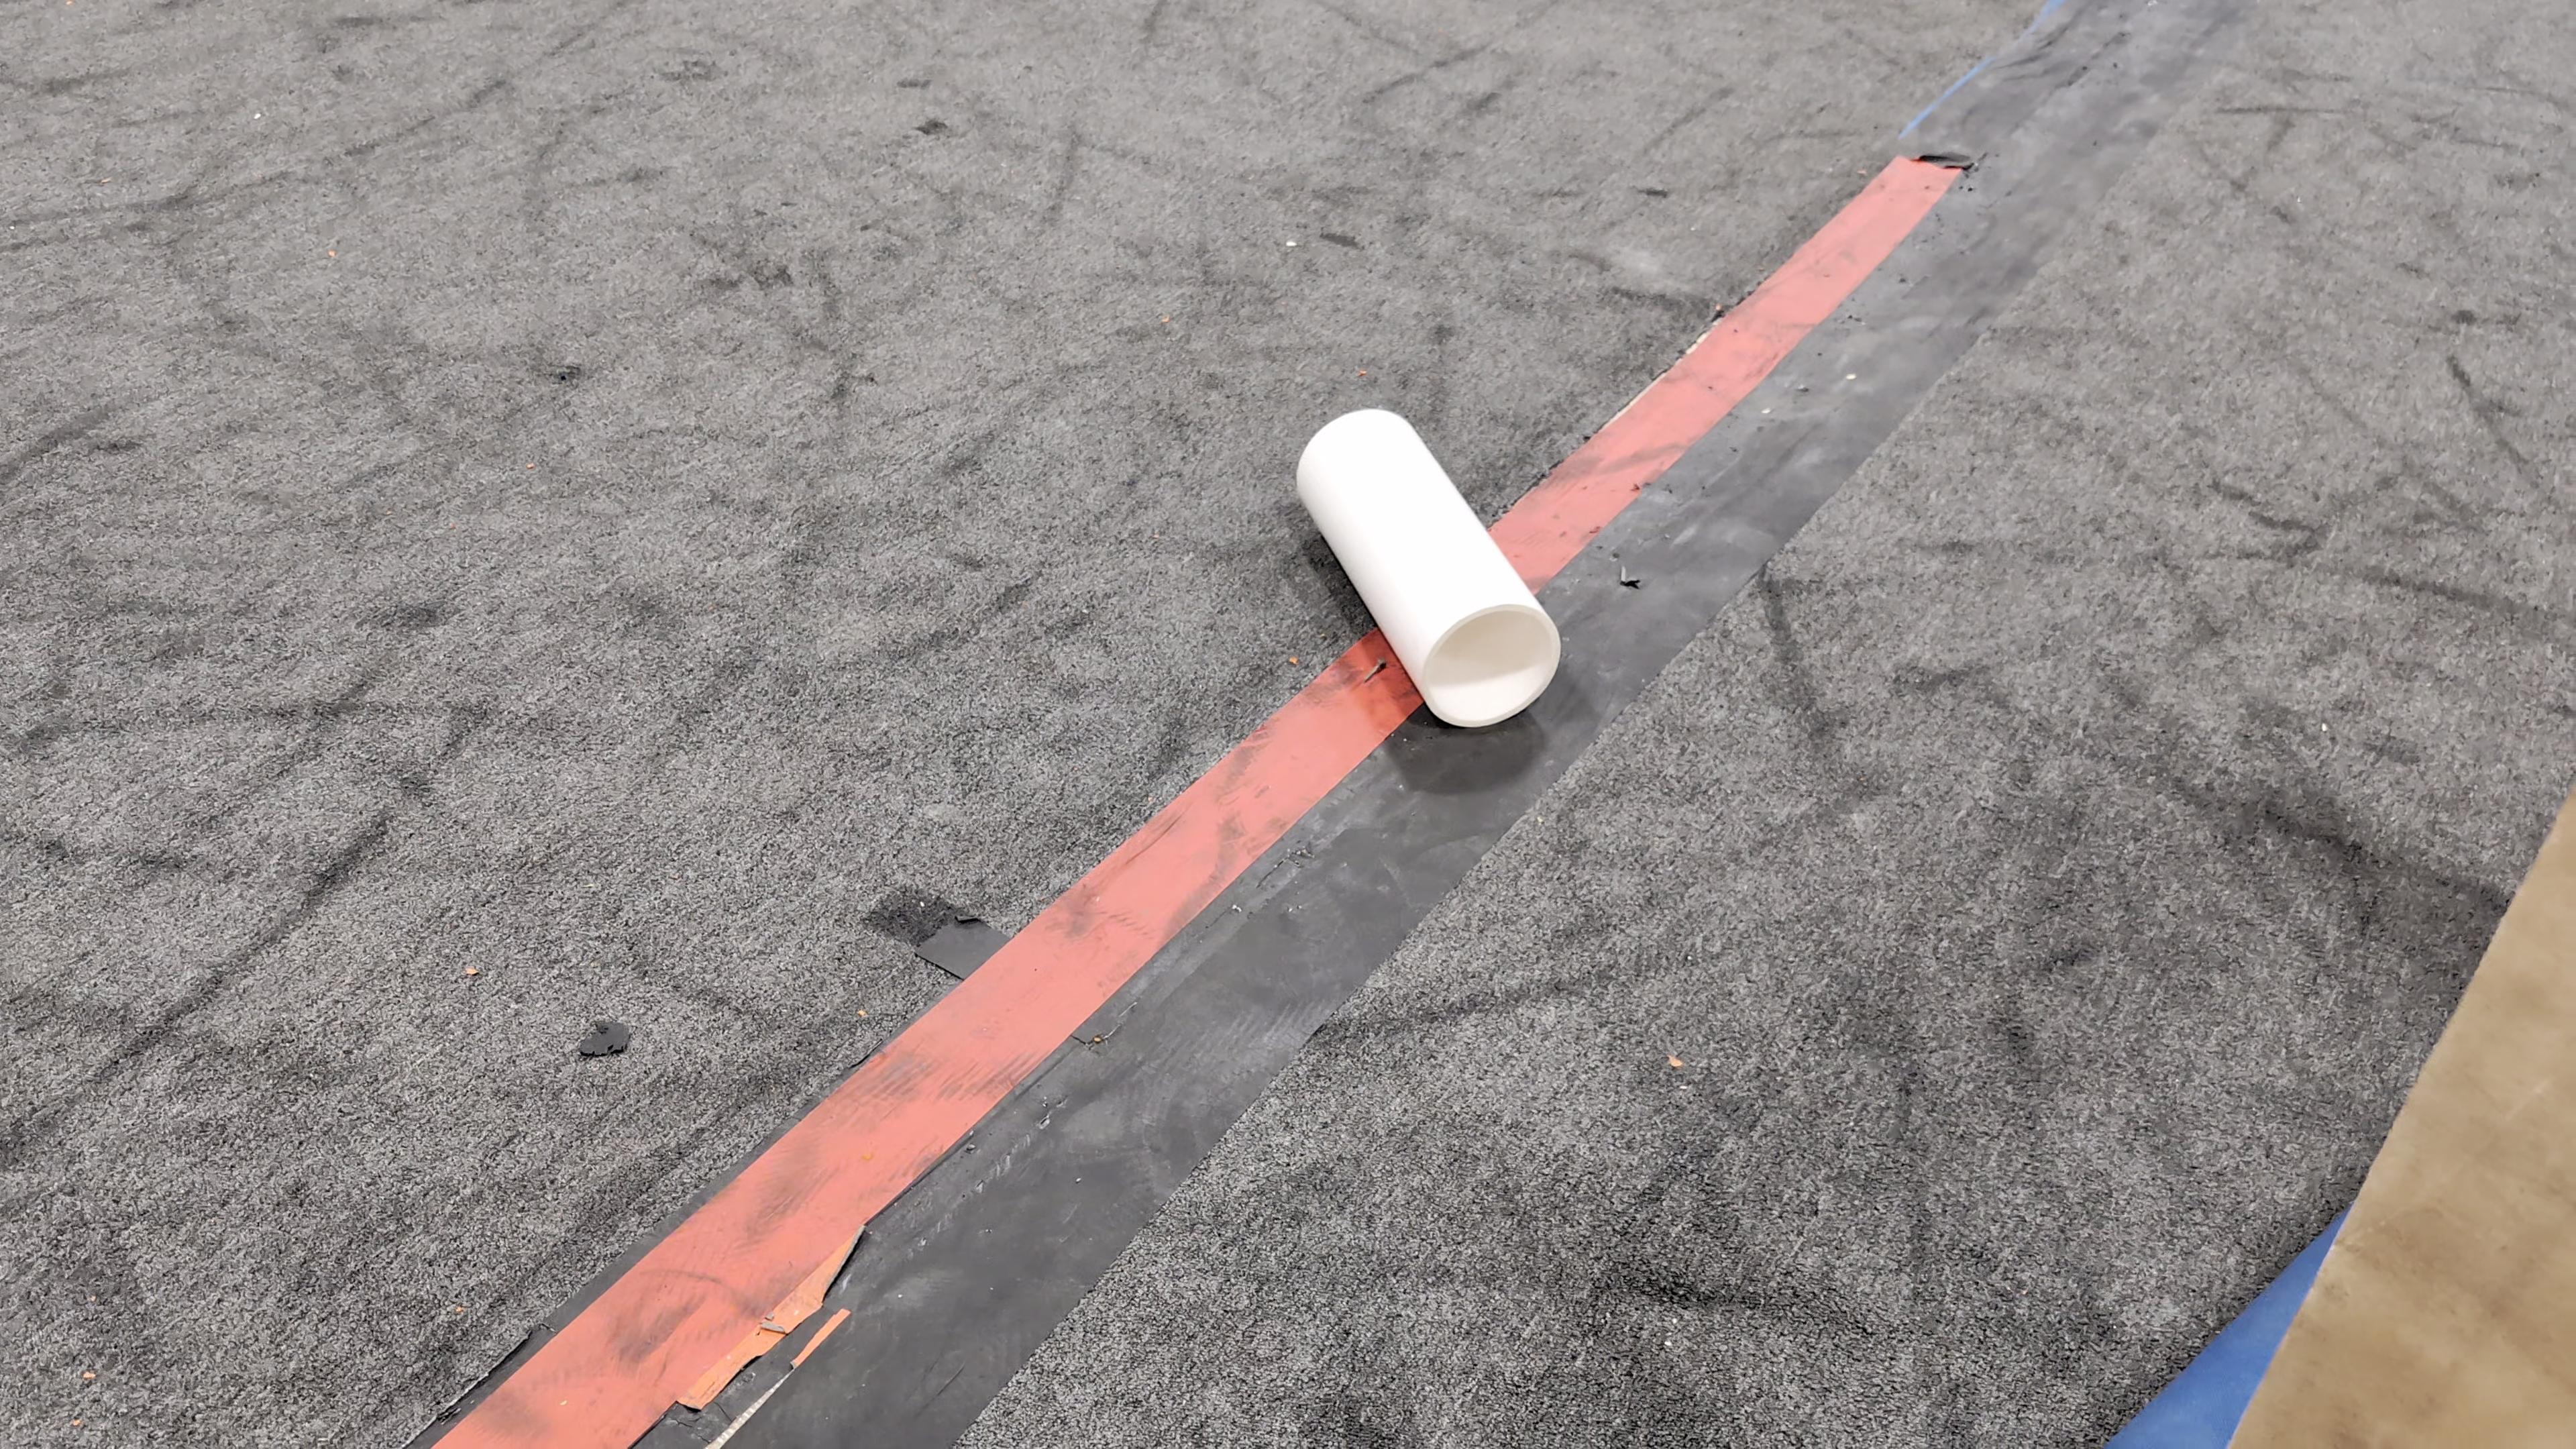coral: (1291, 402, 1564, 731)
